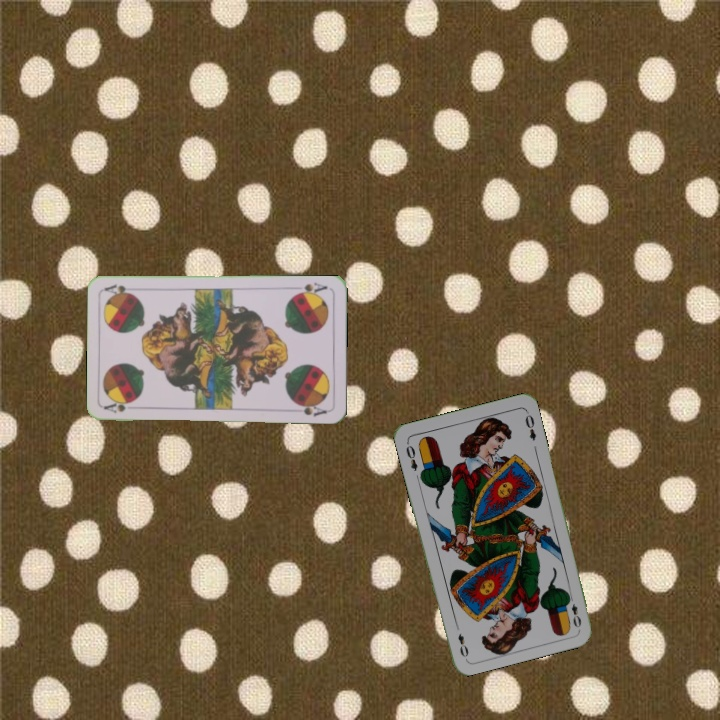EO: (564, 591, 584, 630), (402, 438, 420, 473)
SA: (290, 278, 330, 298), (101, 398, 136, 416)
